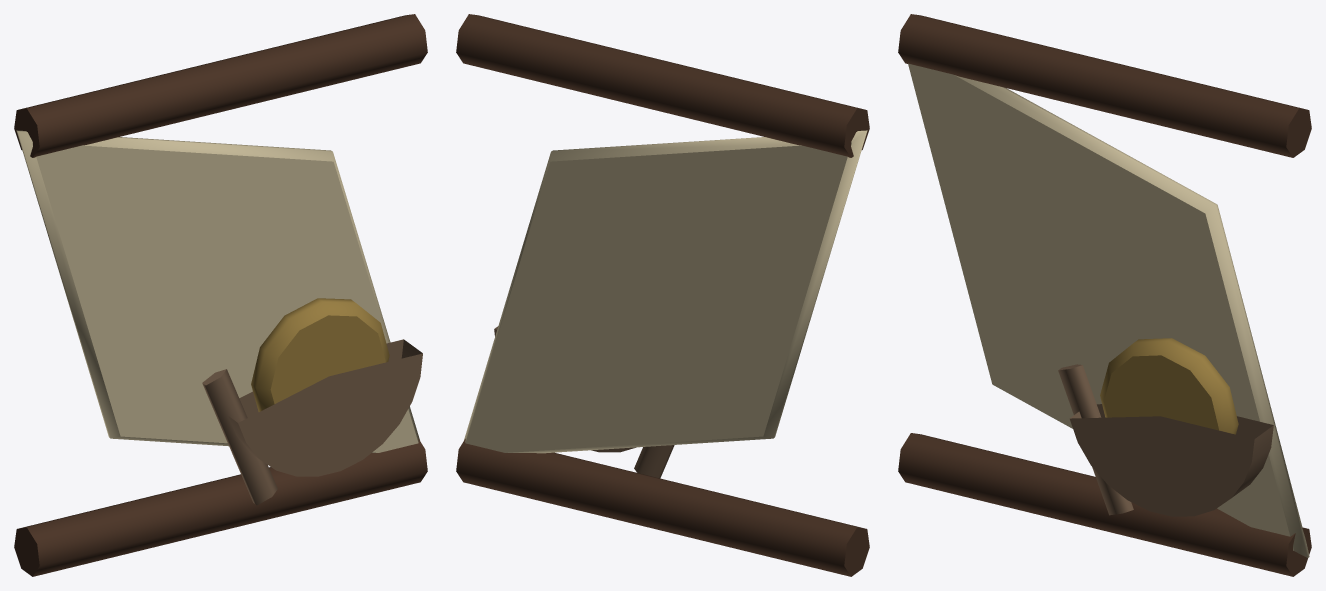
Rendered from crossing_writ.obj.
3 views of the same model, side by side, from view 1: azimuth 30°, elevation 25°; view 2: azimuth 150°, elevation 25°; view 3: azimuth 330°, elevation 25° (orthographic).
Parts seen in each view (by area): view 1: crossing_writ; view 2: crossing_writ; view 3: crossing_writ.
Part boxes in pixels (x1,y1,x2,y2): crossing_writ: (14, 14, 427, 576); crossing_writ: (456, 14, 869, 576); crossing_writ: (898, 14, 1311, 576).
Size of the model in its own units: 1.34 by 1.46 by 0.2231.
